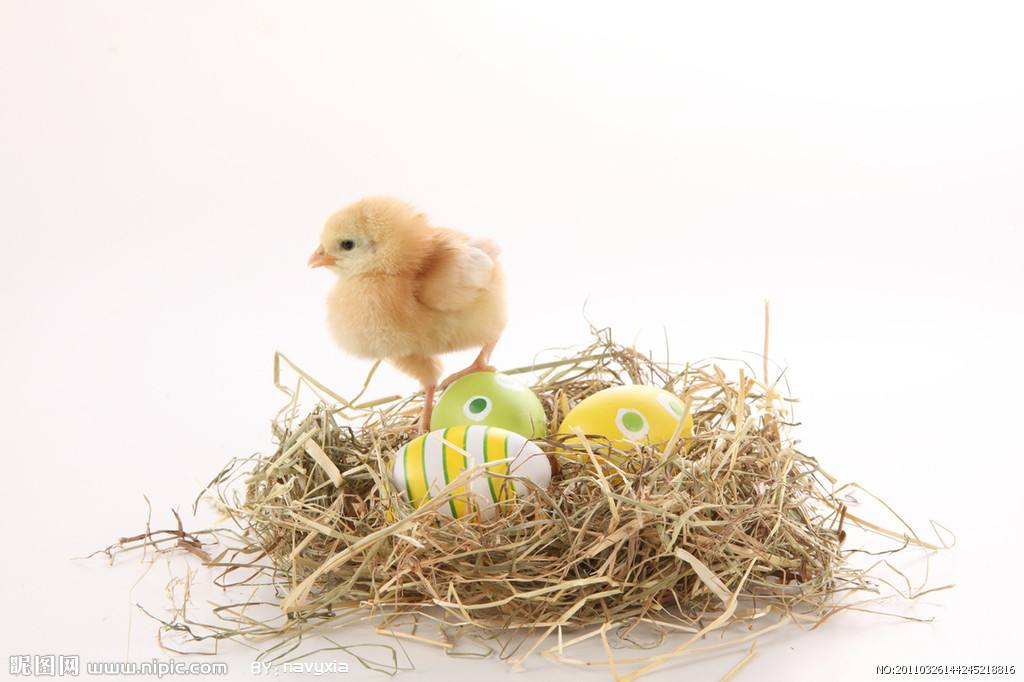chicken: (295, 181, 517, 442)
